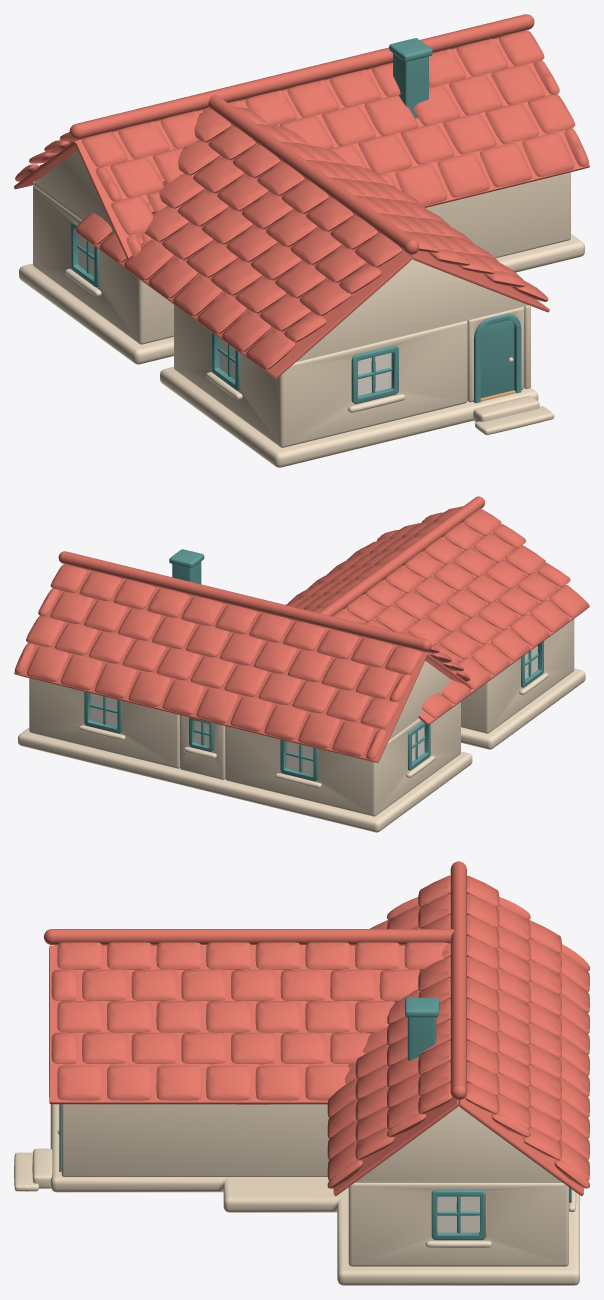
Rendered from four_corners_stage3.glb.
3 views of the same model, one above another, from view 1: azimuth 30°, elevation 25°; view 2: azimuth 150°, elevation 25°; view 3: azimuth 270°, elevation 25° (orthographic). The views are drawn at different scales.
Parts seen in each view (by area): view 1: roof, room_3_walls, base, room_1_walls, room_2_walls, room_3_windows, hallway_door, hallway_walls, room_1_windows, hallway_windows; view 2: roof, room_1_walls, base, room_2_walls, room_3_walls, room_1_windows, hallway_walls, room_2_windows, room_3_windows, hallway_windows; view 3: roof, hallway_walls, room_2_walls, base, room_2_windows.
Part boxes in pixels (x1,y1,x2,y2): roof: (14, 14, 589, 378); room_3_walls: (174, 305, 467, 447); base: (19, 234, 584, 467); room_1_walls: (33, 185, 173, 344); room_2_walls: (426, 172, 570, 258); room_3_windows: (206, 332, 405, 412); hallway_door: (480, 320, 514, 397); hallway_walls: (467, 305, 530, 402); room_1_windows: (65, 222, 101, 296); hallway_windows: (473, 314, 521, 403); roof: (14, 496, 589, 762); room_1_walls: (225, 702, 460, 816); base: (18, 668, 585, 832); room_2_walls: (29, 678, 179, 768); room_3_walls: (461, 619, 574, 733); room_1_windows: (275, 722, 435, 788); hallway_walls: (179, 715, 225, 779); room_2_windows: (79, 692, 125, 740); room_3_windows: (519, 641, 548, 694); hallway_windows: (184, 717, 216, 758); roof: (44, 861, 589, 1196); hallway_walls: (61, 1104, 329, 1176); room_2_walls: (348, 1183, 568, 1266); base: (14, 1104, 579, 1285); room_2_windows: (425, 1187, 576, 1247).
Bounding box in the file's own units: 14.83 × 6.52 × 15.67.
